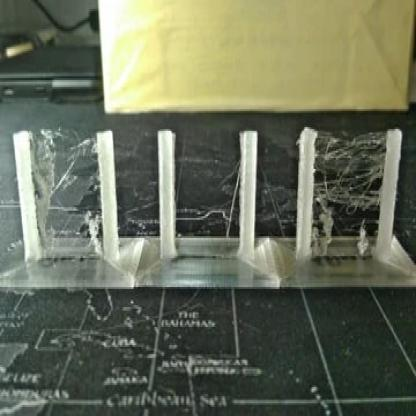fail: (316, 130, 391, 232), (46, 136, 102, 225)
